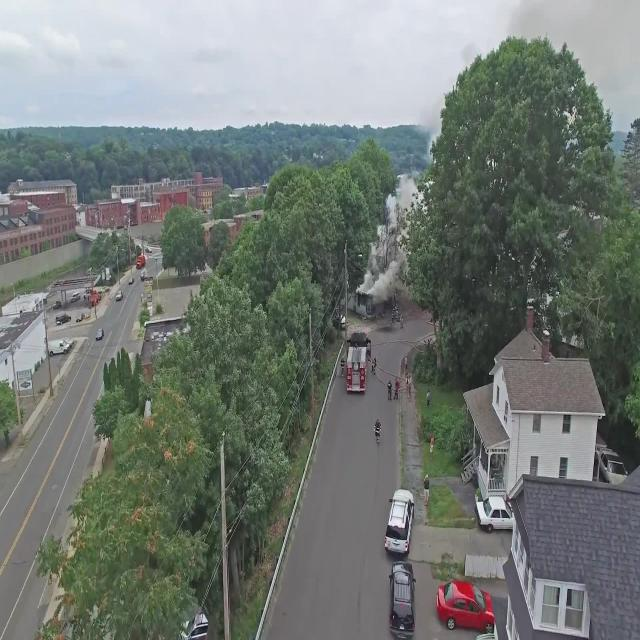Smoke: (356, 35, 496, 302)
